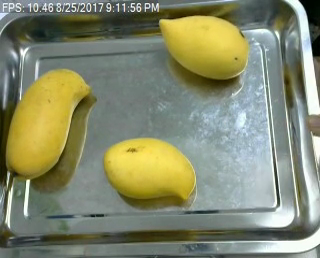Mango: (5, 66, 91, 179), (100, 136, 202, 203), (154, 13, 252, 82)
